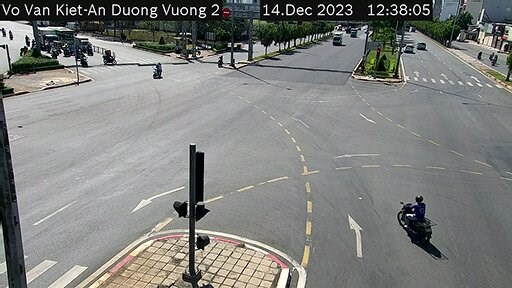motorbike: (395, 193, 439, 246), (151, 61, 164, 80)
